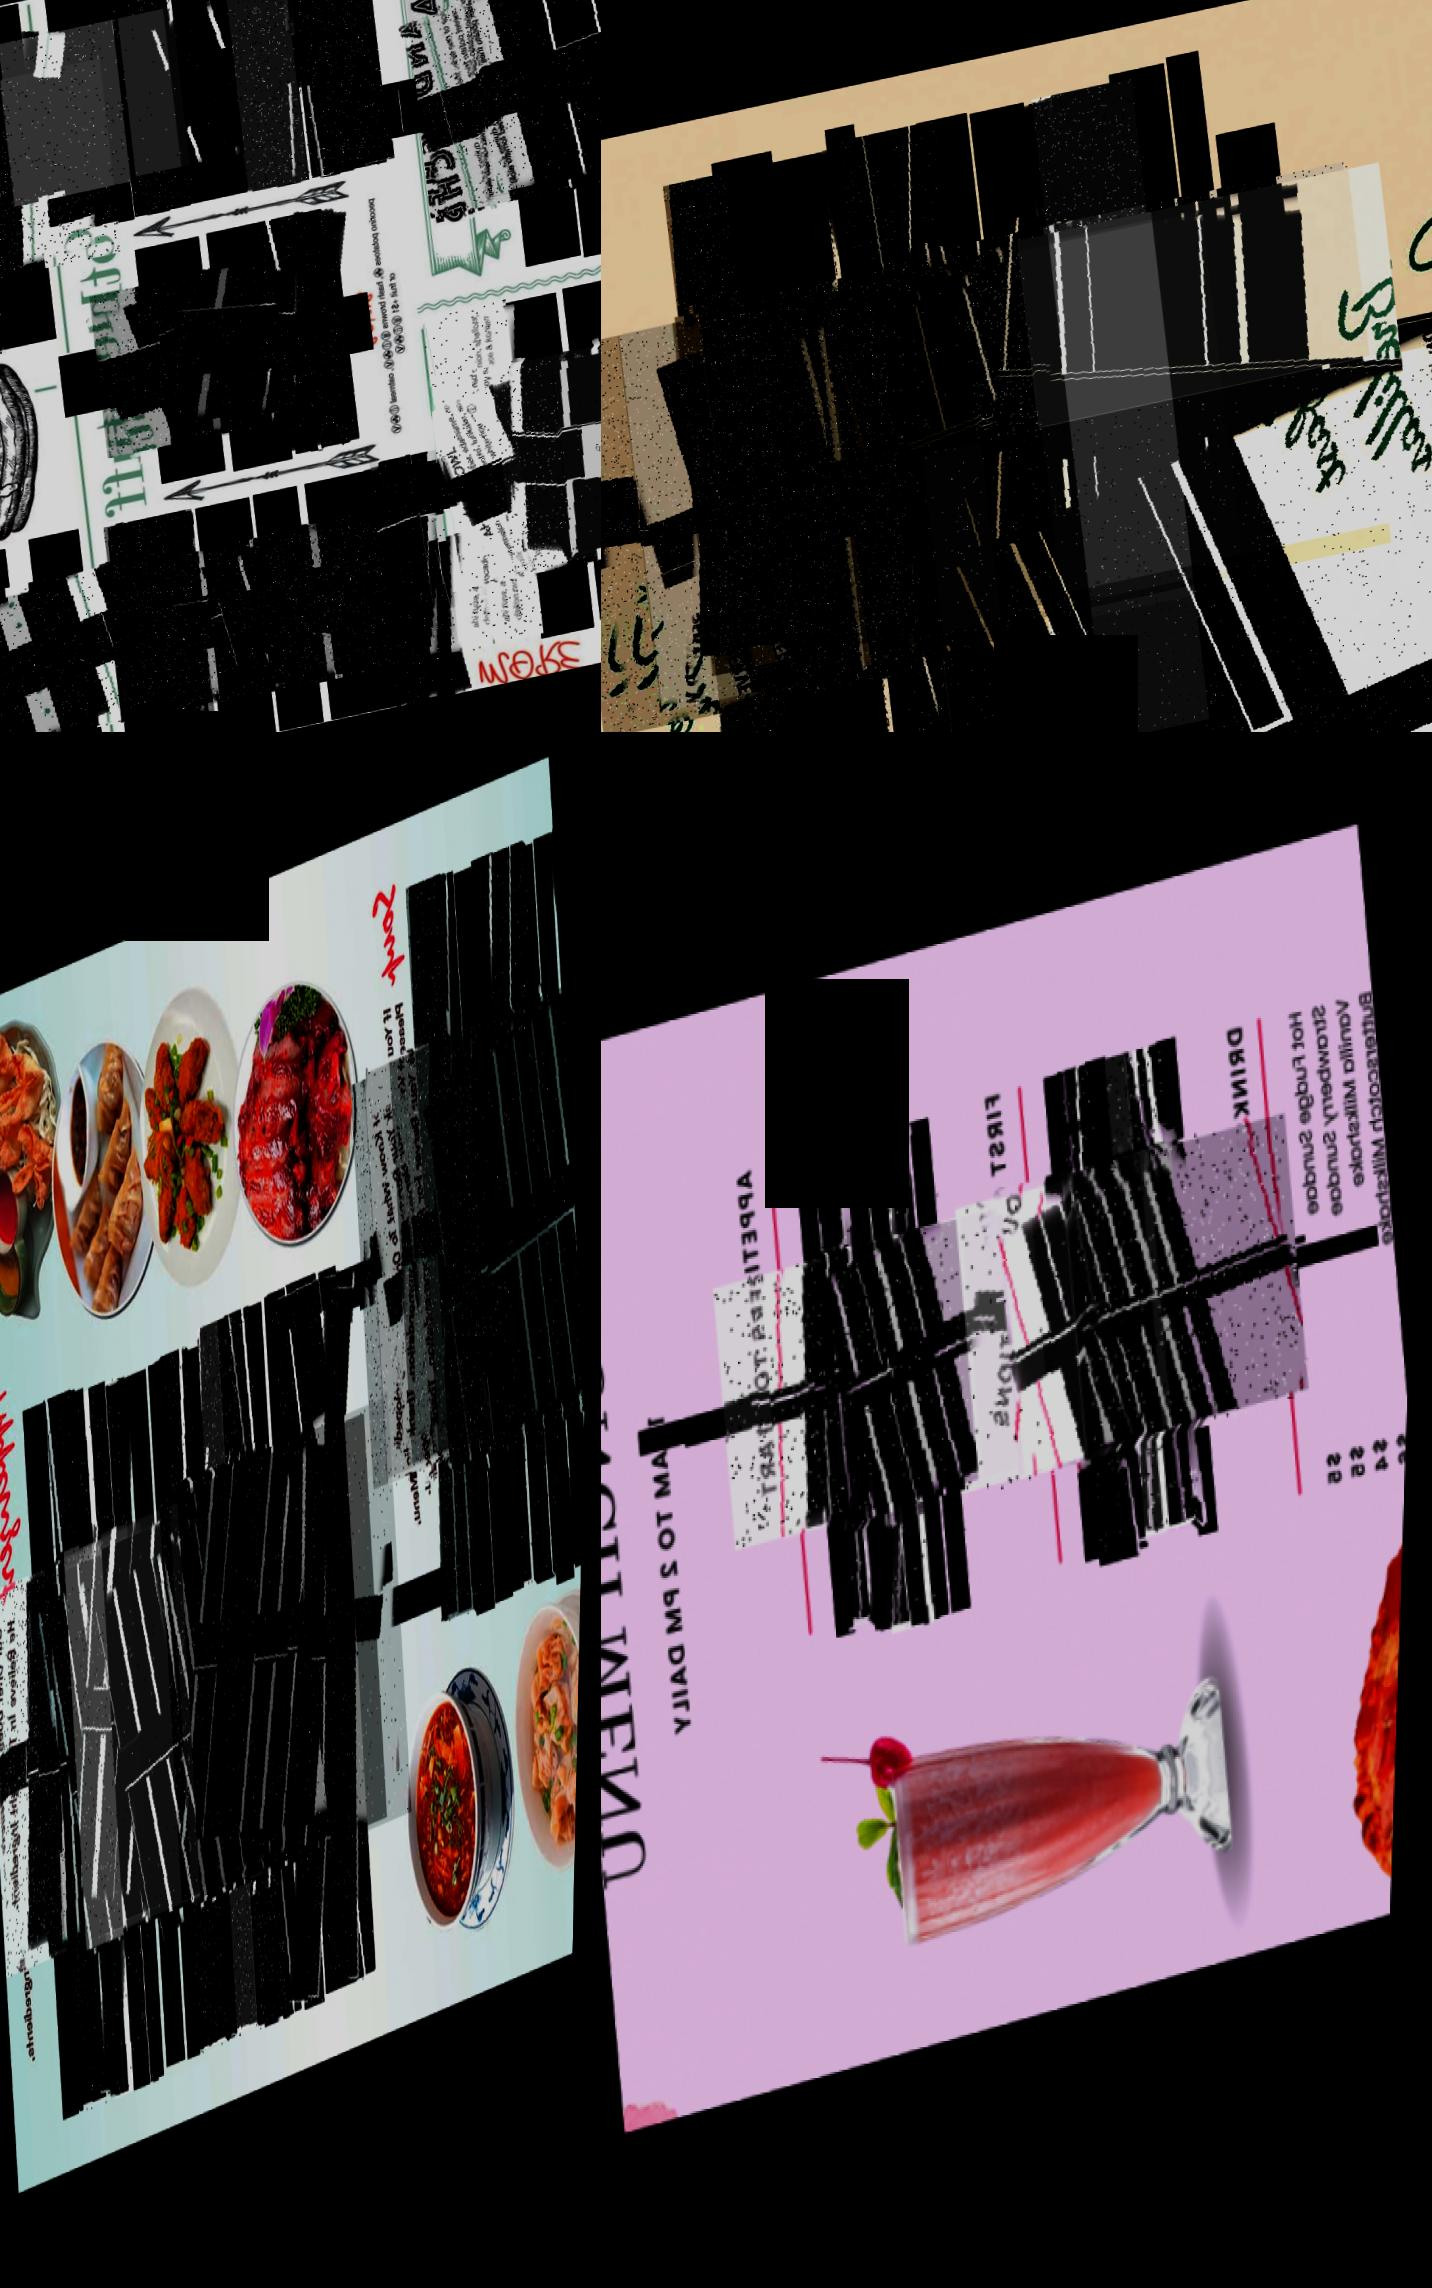Menu-Items: (754, 219, 1221, 691), (950, 172, 1412, 638), (615, 257, 1072, 719), (906, 337, 1432, 732), (817, 221, 1267, 676), (601, 267, 1025, 732), (668, 246, 1102, 683), (873, 218, 1298, 648), (1013, 173, 1432, 605), (1015, 82, 1242, 732), (817, 124, 1049, 732), (173, 1402, 424, 1910), (155, 1419, 399, 1914), (345, 1006, 589, 1501), (97, 1450, 342, 1943), (360, 998, 596, 1501), (61, 1471, 300, 1955), (43, 1481, 279, 1961), (257, 1269, 394, 2021), (647, 173, 830, 732), (383, 1001, 596, 1480), (28, 1506, 252, 1960), (0, 1519, 213, 1973), (992, 1135, 1254, 1486), (1064, 1122, 1321, 1466), (818, 1198, 1074, 1539), (470, 846, 584, 1607), (950, 1156, 1203, 1495), (421, 1000, 596, 1483), (66, 1372, 178, 2107), (394, 879, 500, 1641), (0, 1526, 173, 1981), (756, 1224, 996, 1544), (802, 1216, 1043, 1536), (709, 1232, 949, 1554), (188, 1316, 290, 2049), (210, 1306, 309, 2041), (33, 1386, 130, 2120), (152, 1344, 247, 2065), (445, 1006, 596, 1455), (838, 1125, 960, 1641), (462, 1003, 596, 1457), (416, 304, 566, 663), (1048, 1066, 1153, 1575), (1094, 1056, 1198, 1556), (1119, 1049, 1221, 1549), (802, 1137, 902, 1638), (427, 340, 601, 602), (399, 0, 601, 224), (157, 249, 355, 449), (89, 262, 285, 460), (0, 8, 191, 206), (266, 503, 455, 694), (152, 531, 337, 716), (208, 518, 391, 704), (115, 0, 307, 178), (0, 56, 134, 290), (254, 208, 374, 462), (102, 508, 236, 732), (0, 558, 170, 732), (368, 454, 482, 714), (460, 0, 601, 206), (492, 332, 601, 581), (276, 0, 403, 185), (102, 0, 206, 219), (214, 0, 327, 196), (506, 0, 601, 200), (0, 584, 91, 732), (553, 332, 601, 566), (0, 13, 25, 366), (0, 78, 12, 285)
